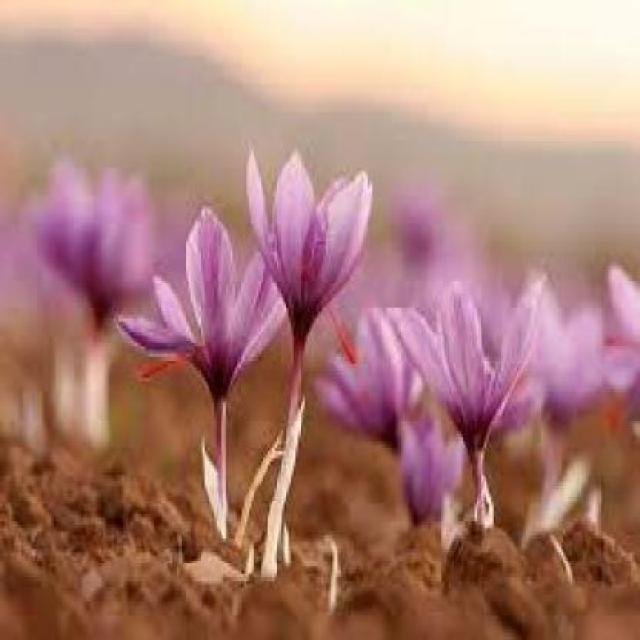saffron open: (118, 208, 285, 539), (246, 146, 370, 464), (392, 282, 535, 530)
